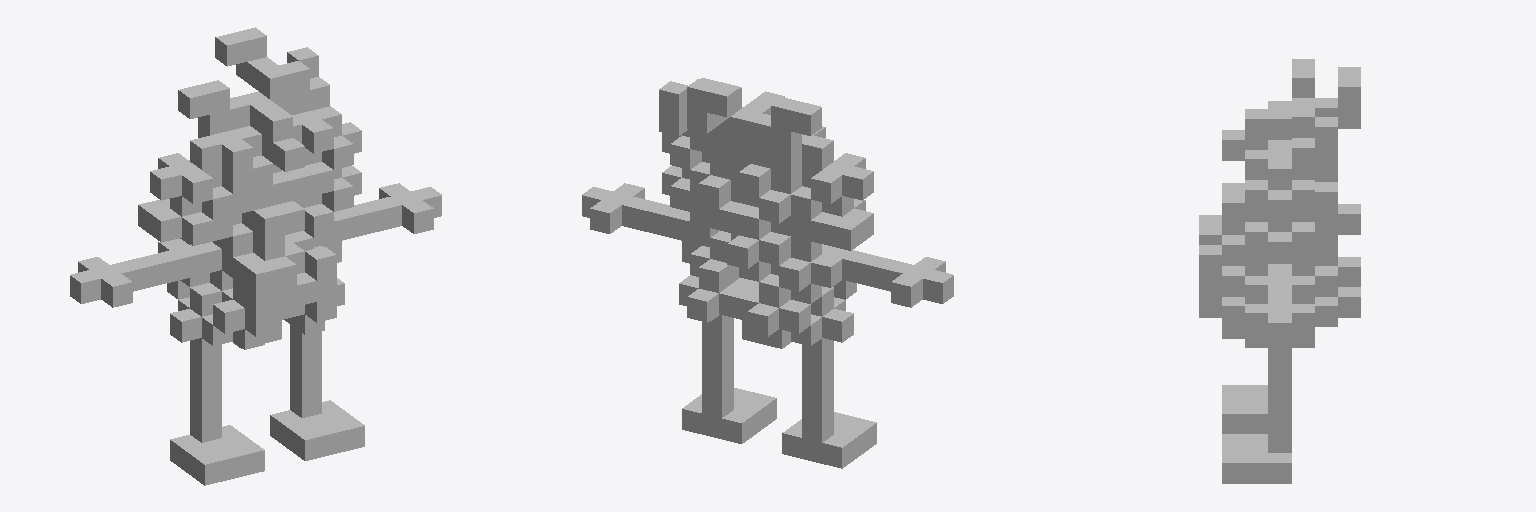
Rendered from grape.obj.
3 renders of one model, left to right at view 1: azimuth 30°, elevation 25°; view 2: azimuth 150°, elevation 25°; view 3: azimuth 270°, elevation 25°, orthographic.
Visible parts, largest first — view 1: object 1; view 2: object 1; view 3: object 1.
Boxes of the visible parts, <box> form: object 1: <box>70,27,441,485</box>; object 1: <box>582,78,953,468</box>; object 1: <box>1199,59,1360,483</box>.
Size of the model in its own units: 1.8 by 1.8 by 0.7.